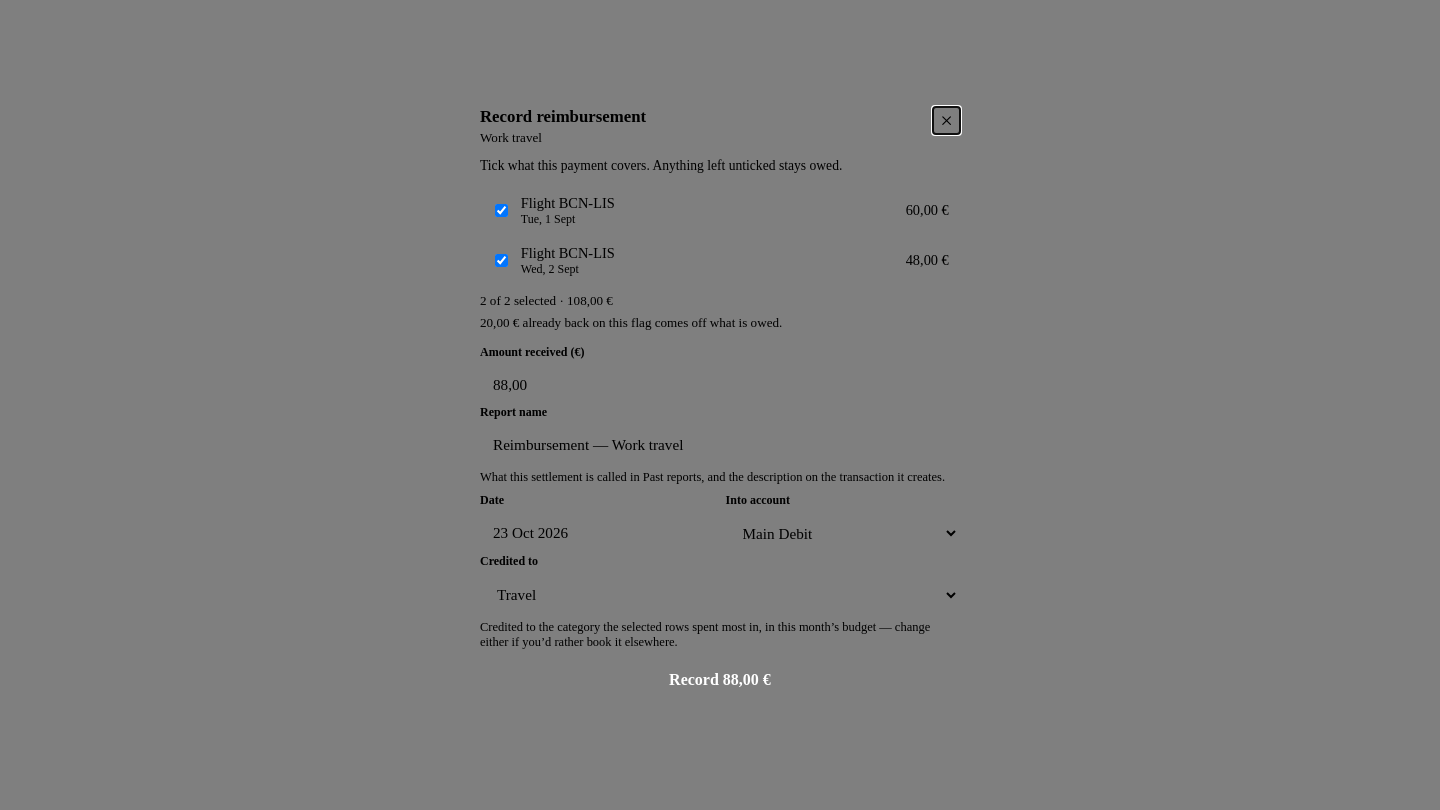
Test: RecordReimbursementSheet — a claim that already has money back › reports what the card will show once a part payment lands
Click the checkbox labelled "Flight BCN-LIS Wed, 2 Sept 48,00 €" at (502, 260), box [495,254,508,267]
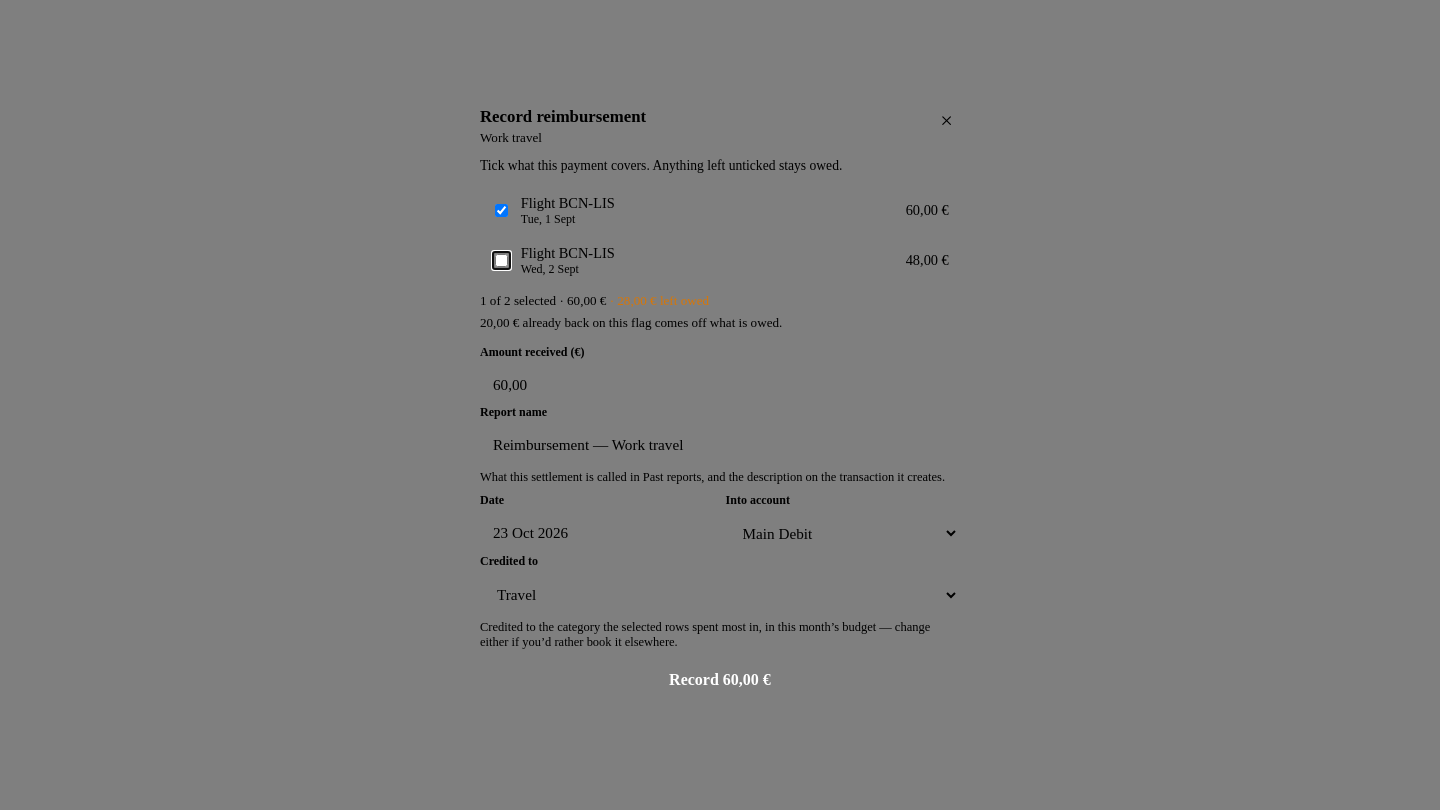
Expected: the text "· 28,00 € left owed" is shown, [606,293,709,308]
